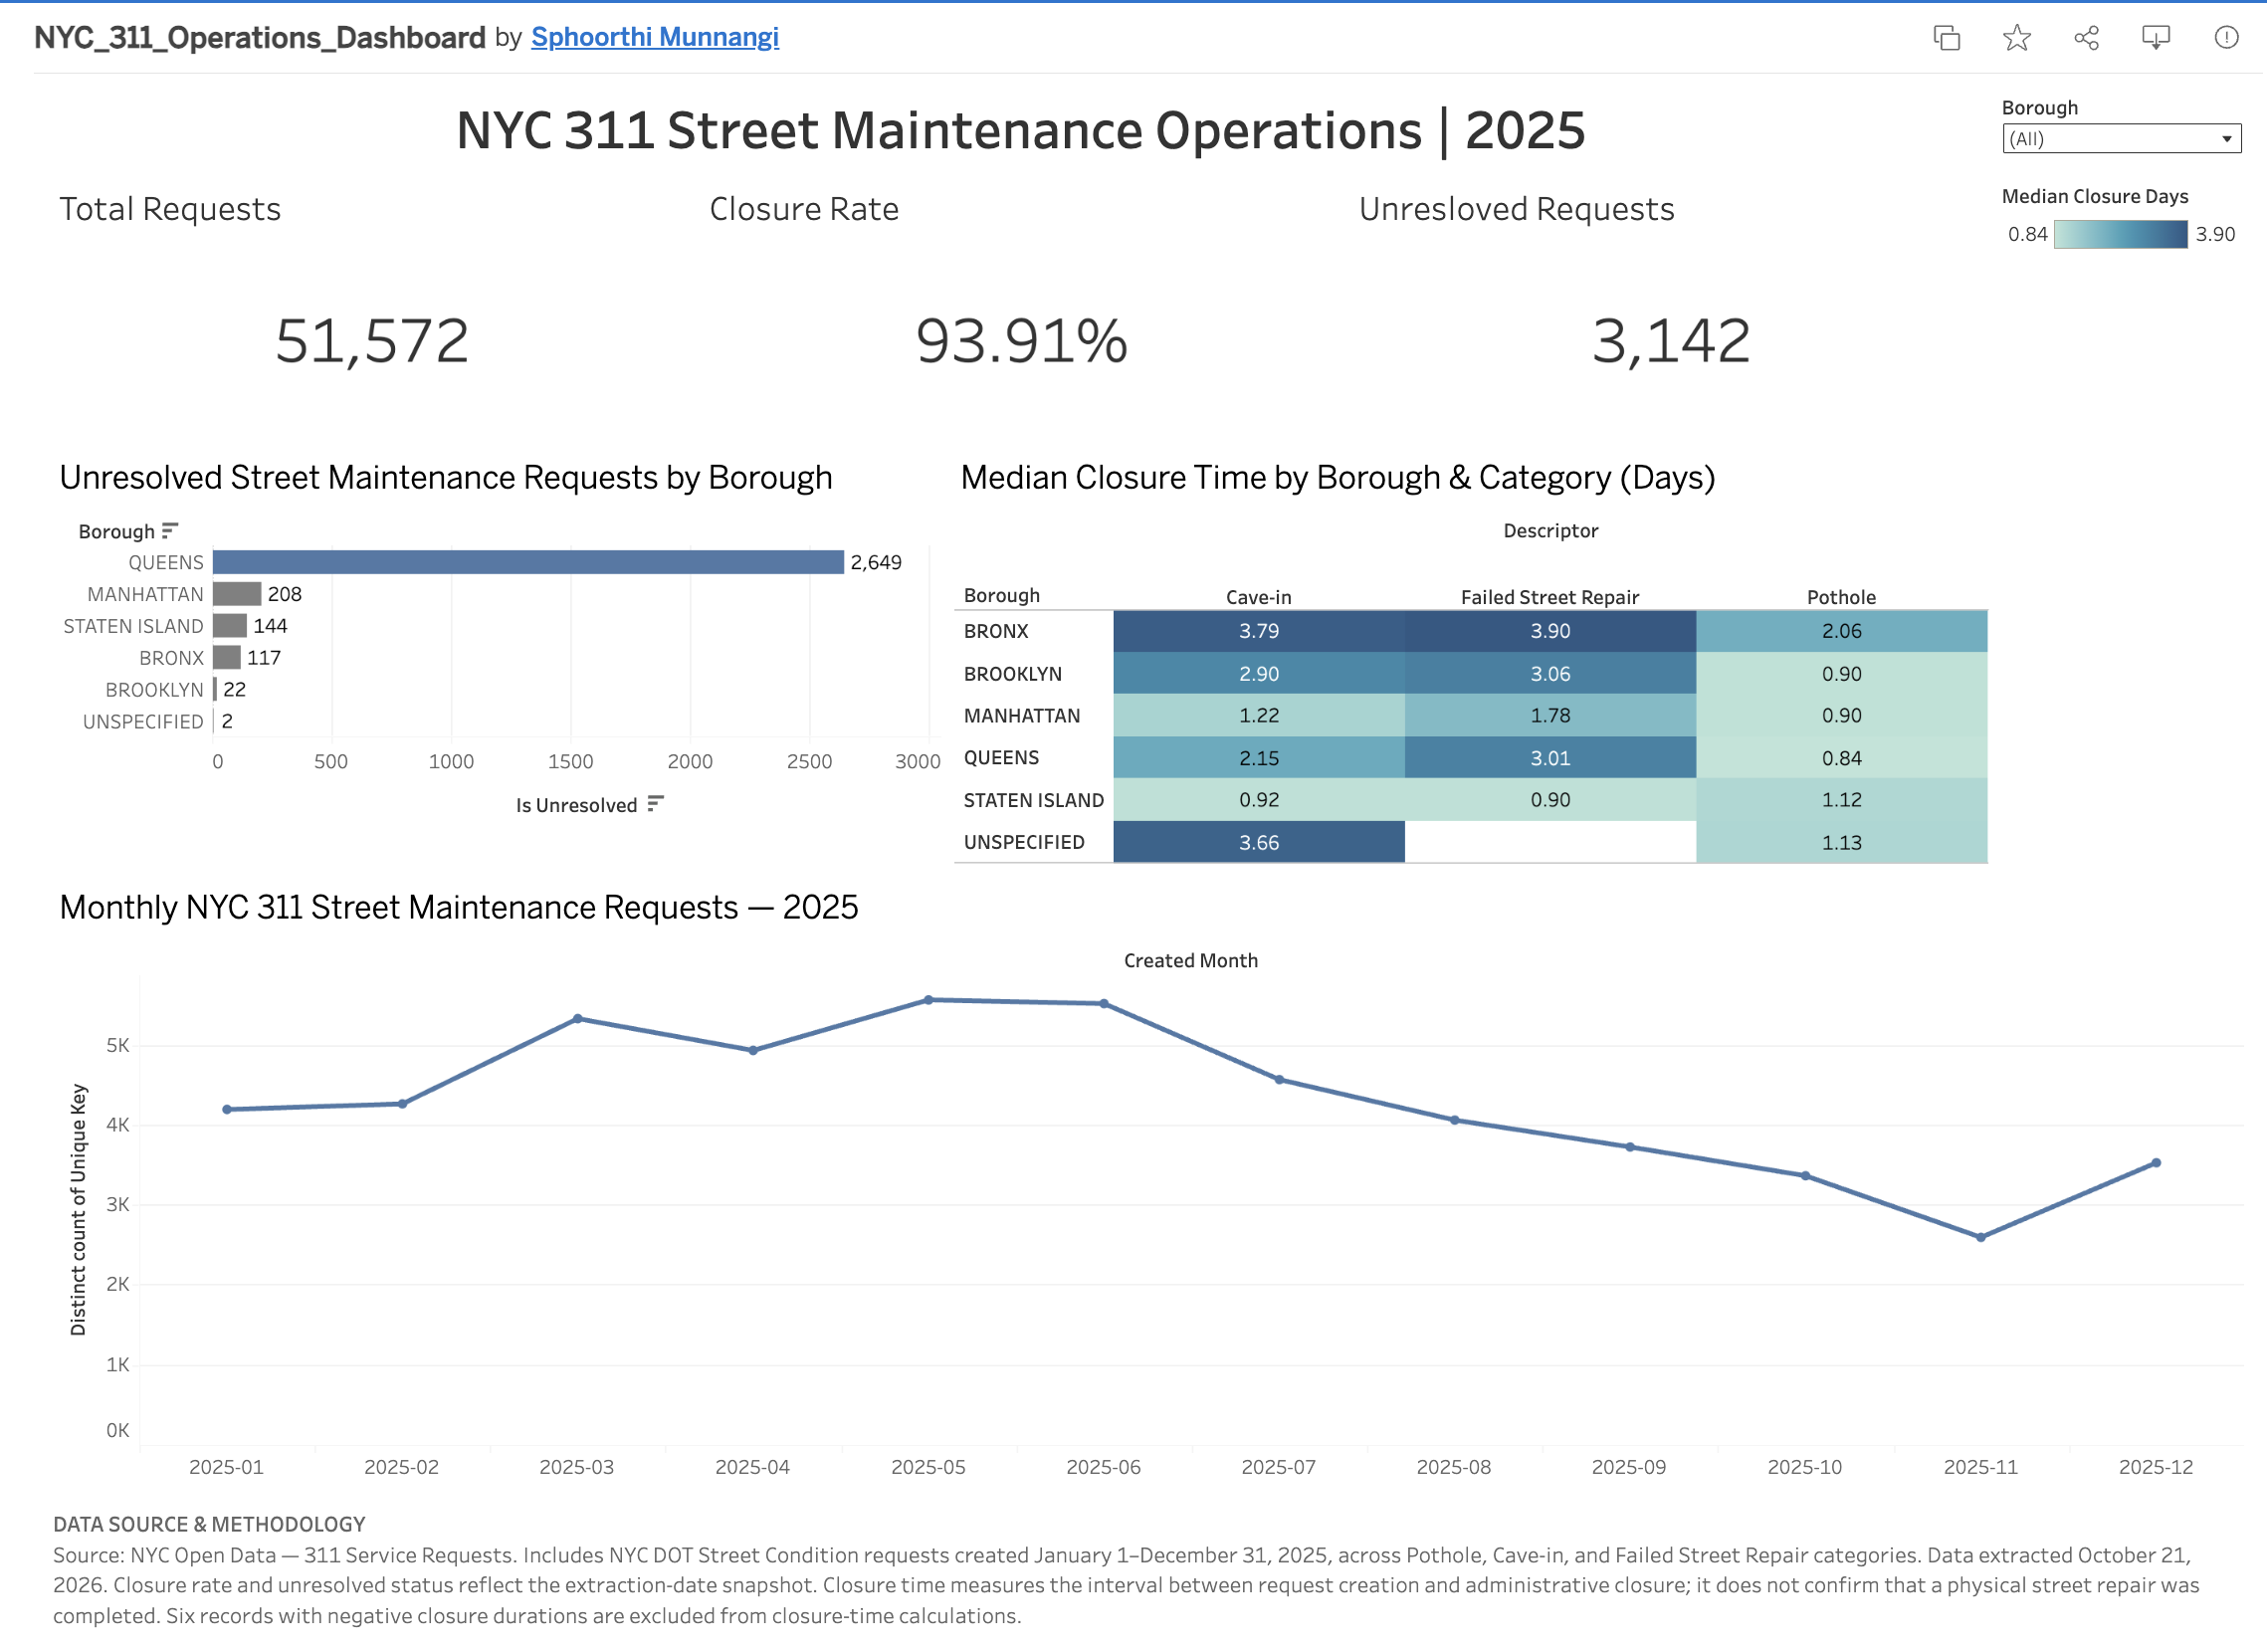

This screenshot's page, from the dashboard's own definition file:
{"tool":"tableau","page":{"name":"NYC 311 Operations Dashboard","canvas":[1400,1000],"ordinal":0},"visuals":[{"type":"title","box":[8,8,1224,52]},{"type":"filter","title":"Chart - Unresolved by Borough","param":"[federated.0f7la2h1dd80i41ex9xc10lkxn2j].[none:borough:nk]","box":[1232,8,160,52]},{"type":"worksheet","title":"KPI - Total Requests","mark":"Automatic","box":[8,60,408,170]},{"type":"worksheet","title":"KPI - Closure Rate","mark":"Automatic","box":[416,60,408,170]},{"type":"worksheet","title":"KPI - Unresolved Requests","mark":"Automatic","box":[824,60,408,170]},{"type":"legend","title":"Chart - Closure Time Heatmap","param":"[federated.0f7la2h1dd80i41ex9xc10lkxn2j].[med:closure_days:qk]","box":[1232,60,160,65]},{"type":"worksheet","title":"Chart - Unresolved by Borough","mark":"Automatic","rows":["borough"],"cols":["is_unresolved"],"box":[8,230,566,270]},{"type":"worksheet","title":"Chart - Closure Time Heatmap","mark":"Square","rows":["borough"],"cols":["descriptor"],"box":[574,230,658,270]},{"type":"worksheet","title":"Chart - Monthly Request Trends","mark":"Line","rows":["unique_key"],"cols":["created_month"],"box":[8,500,1384,387]},{"type":"text","box":[8,887,1384,105]}]}

Visuals, with their boxes on the page's 1400x1000 design canvas (x1, y1, x2, y2). These are canvas units, not pixel positions in the 2267x1652 screenshot, which may show the page scaled, cropped or inside an application window:
title: bbox=[8, 8, 1232, 60]
"Chart - Unresolved by Borough" filter: bbox=[1232, 8, 1392, 60]
"KPI - Total Requests" worksheet: bbox=[8, 60, 416, 230]
"KPI - Closure Rate" worksheet: bbox=[416, 60, 824, 230]
"KPI - Unresolved Requests" worksheet: bbox=[824, 60, 1232, 230]
"Chart - Closure Time Heatmap" legend: bbox=[1232, 60, 1392, 125]
"Chart - Unresolved by Borough" worksheet: bbox=[8, 230, 574, 500]
"Chart - Closure Time Heatmap" worksheet (Square marks): bbox=[574, 230, 1232, 500]
"Chart - Monthly Request Trends" worksheet (Line marks): bbox=[8, 500, 1392, 887]
text: bbox=[8, 887, 1392, 992]
